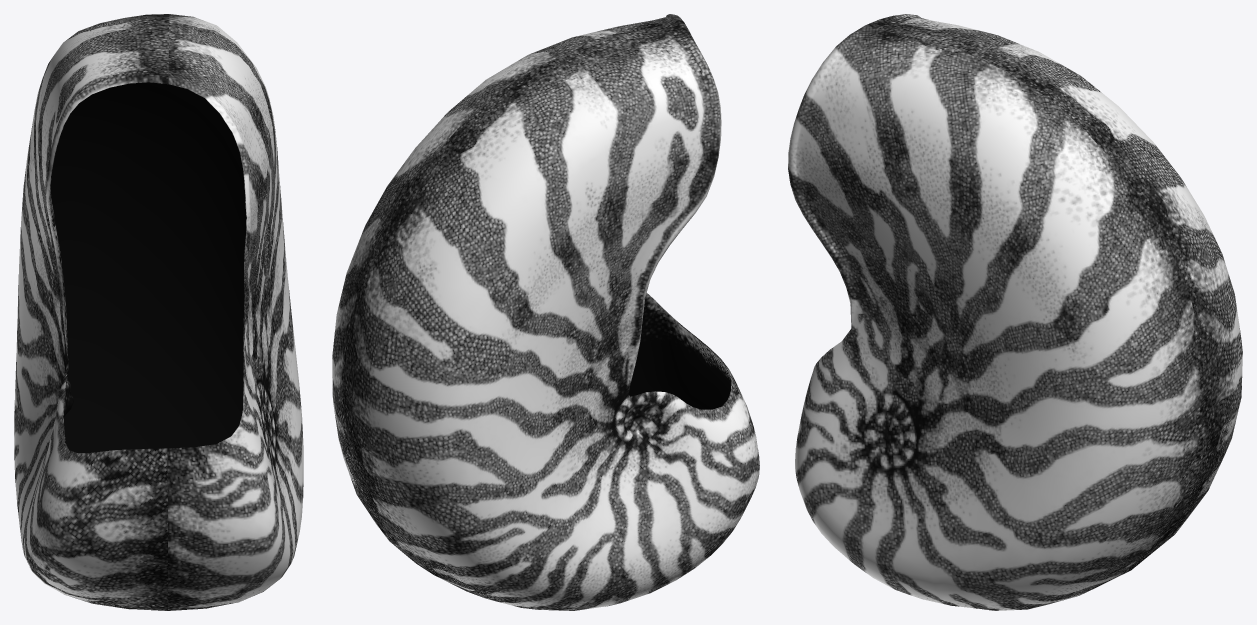
Rendered from Popup.fbx.
3 views of the same model, side by side, from view 1: azimuth 30°, elevation 25°; view 2: azimuth 150°, elevation 25°; view 3: azimuth 270°, elevation 25° (orthographic). The views are drawn at different scales.
Visible parts, largest first — view 1: KominJeong_Shell02_Popup_RE; view 2: KominJeong_Shell02_Popup_RE; view 3: KominJeong_Shell02_Popup_RE.
Part boxes in pixels (x1,y1,x2,y2): KominJeong_Shell02_Popup_RE: (14, 14, 303, 610); KominJeong_Shell02_Popup_RE: (332, 14, 759, 610); KominJeong_Shell02_Popup_RE: (788, 14, 1242, 610).
Size of the model in its own units: 13.63 by 22.27 by 17.2.
1 material, 1 textured.
